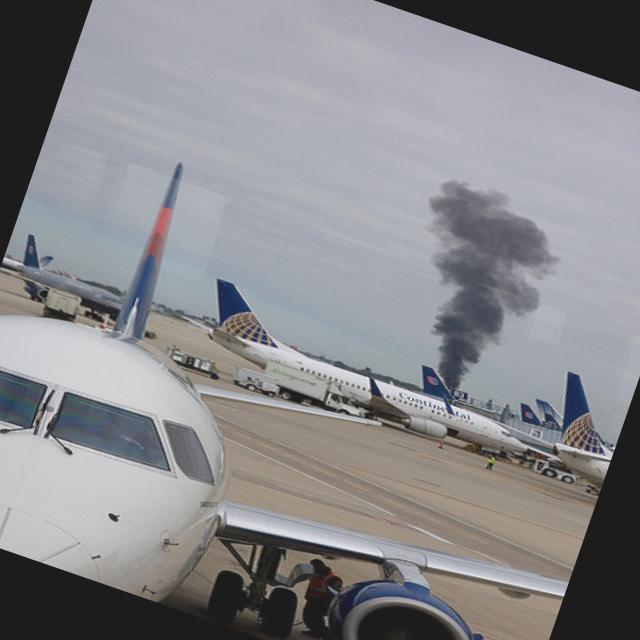Vehicle: (255, 357, 371, 425)
